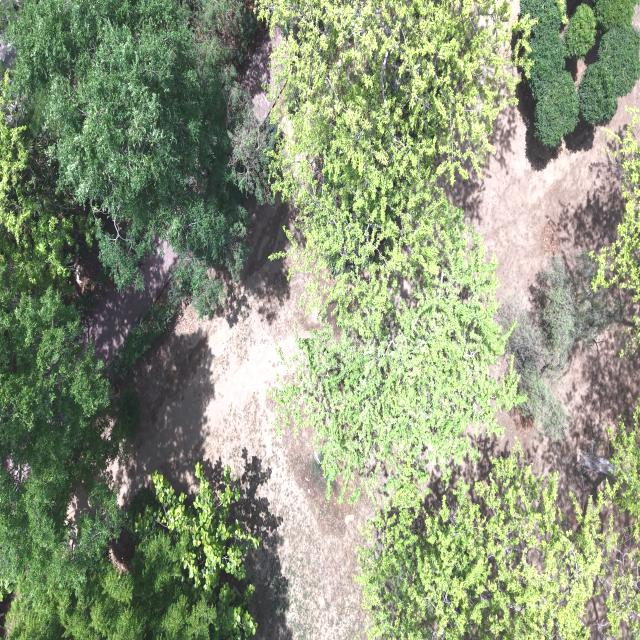DRY_AREA: (111, 205, 372, 639), (112, 205, 373, 639), (80, 242, 177, 362), (80, 242, 176, 362)
VEGETATION_TREE: (0, 0, 639, 639), (5, 1, 521, 493), (258, 0, 620, 637), (0, 1, 272, 635), (258, 1, 521, 499), (4, 0, 266, 313), (271, 190, 523, 500), (259, 0, 516, 281), (357, 403, 639, 639), (0, 120, 134, 601), (357, 451, 602, 639), (7, 463, 257, 639), (0, 285, 120, 596), (508, 256, 620, 438), (520, 0, 639, 146), (134, 462, 258, 590), (591, 107, 639, 302), (603, 401, 639, 639), (520, 0, 578, 145), (539, 255, 602, 377), (508, 312, 568, 438), (105, 286, 182, 383), (578, 4, 639, 123), (227, 78, 276, 202), (597, 24, 639, 96), (578, 60, 616, 123), (564, 2, 596, 58), (594, 0, 635, 27)
